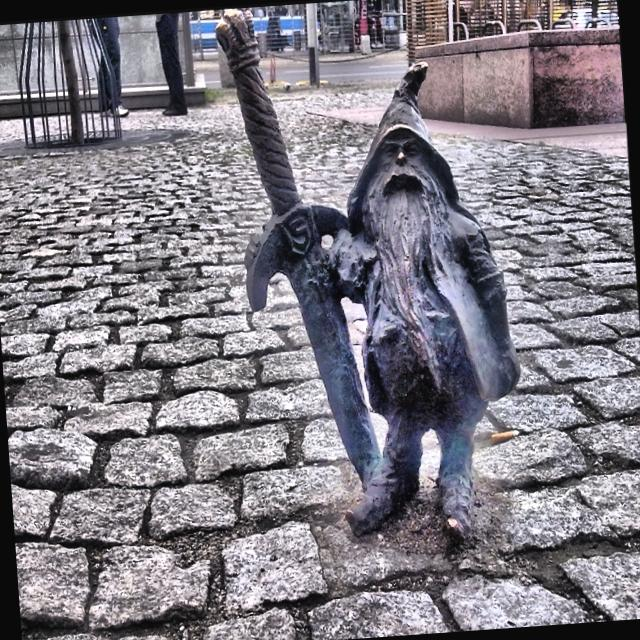Giermek_Grun-Waldek: (214, 13, 521, 543)
